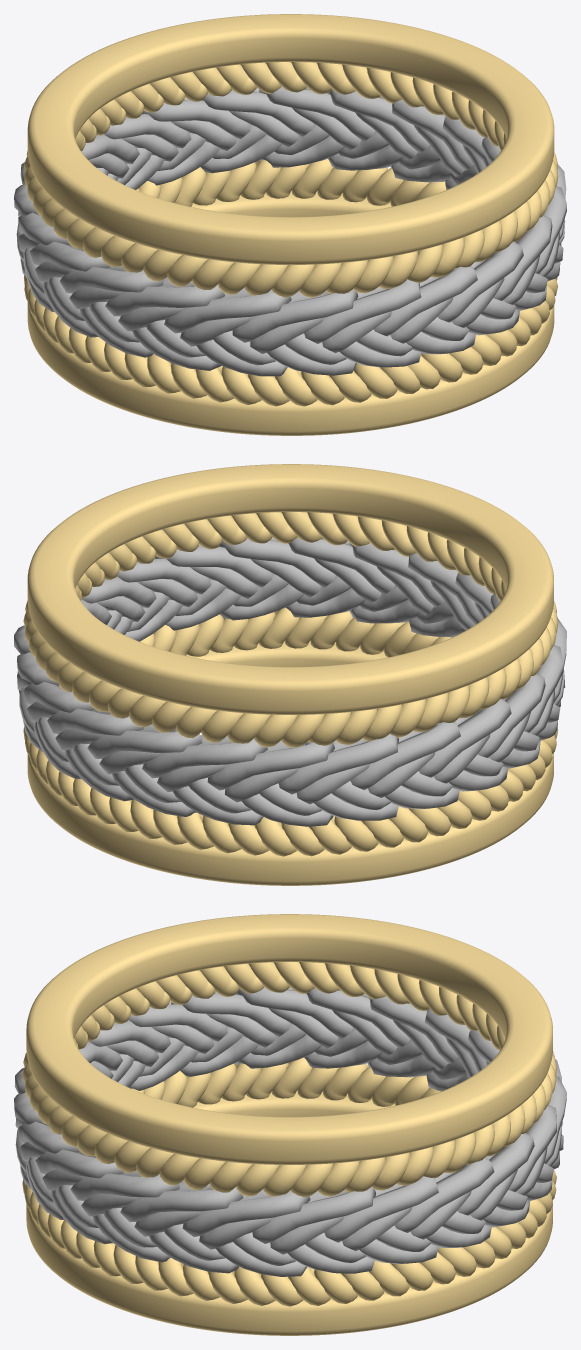
Rendered from altin-yuzuk.glb.
The picture shows the model from 3 angles, top to bottom: view 1: azimuth 30°, elevation 25°; view 2: azimuth 150°, elevation 25°; view 3: azimuth 270°, elevation 25°; orthographic projection.
Visible parts, largest first — view 1: Gold ring - Braided Glow, Pattern01_center, pattern01_right, Pattern01_left; view 2: Gold ring - Braided Glow, Pattern01_center, pattern01_right, Pattern01_left; view 3: Gold ring - Braided Glow, Pattern01_center, pattern01_right, Pattern01_left.
Part boxes in pixels (x1,y1,x2,y2): Gold ring - Braided Glow: (27,14,554,435); Pattern01_center: (14,86,566,376); pattern01_right: (24,62,558,297); Pattern01_left: (24,158,558,406); Gold ring - Braided Glow: (27,464,553,885); Pattern01_center: (14,537,566,826); pattern01_right: (23,512,558,747); Pattern01_left: (23,607,558,856); Gold ring - Braided Glow: (26,914,552,1335); Pattern01_center: (14,987,566,1276); pattern01_right: (22,962,556,1197); Pattern01_left: (22,1057,556,1306).
Size of the model in its own units: 0.021 by 0.00857 by 0.021.
2 materials, 2 textured.
